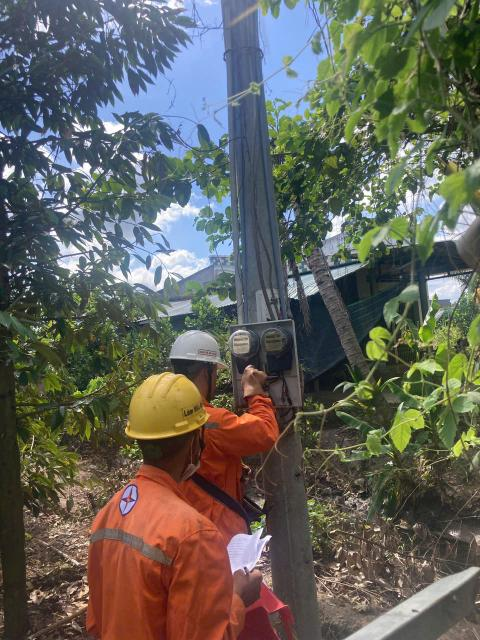gloves: (234, 359, 276, 412)
helmet: (112, 372, 211, 440), (158, 320, 228, 383)
